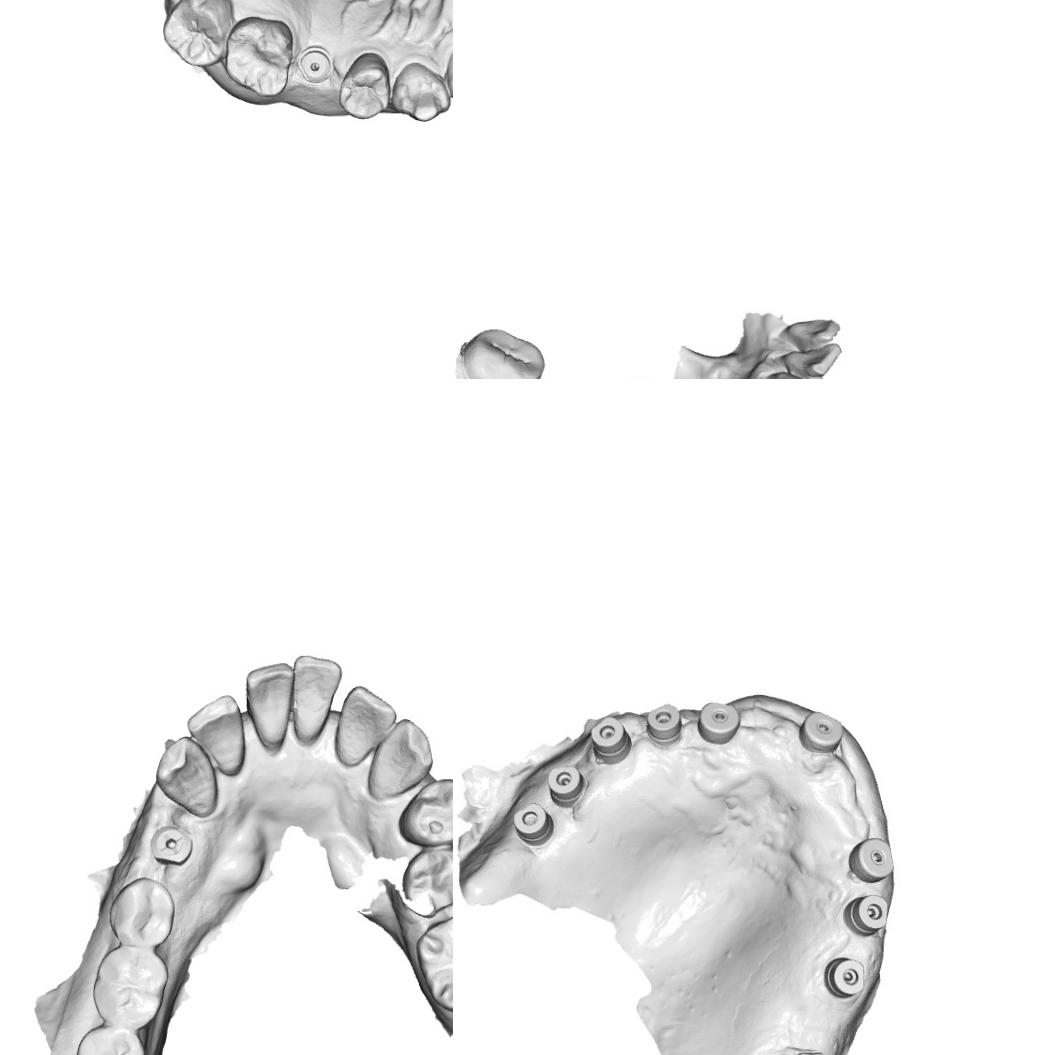canine: (364, 715, 434, 800), (152, 735, 219, 820), (389, 60, 451, 123)
implant: (848, 835, 898, 883), (586, 714, 634, 762), (510, 799, 556, 846), (798, 710, 845, 753), (698, 698, 739, 745), (825, 956, 867, 1001), (846, 892, 888, 934), (546, 764, 589, 803), (296, 43, 334, 84), (644, 700, 682, 740)
implant_plus: (147, 824, 196, 869)
incisor: (330, 683, 400, 766), (185, 688, 246, 776), (288, 650, 344, 739), (243, 660, 296, 746), (777, 344, 850, 379), (783, 318, 840, 345), (767, 371, 826, 379)
molar: (87, 946, 167, 1028), (223, 15, 294, 98), (160, 0, 235, 68), (457, 325, 548, 379), (413, 905, 453, 1019), (70, 1026, 147, 1055)
premolar: (106, 874, 176, 946), (395, 772, 453, 848), (398, 845, 453, 917), (337, 50, 390, 122)
